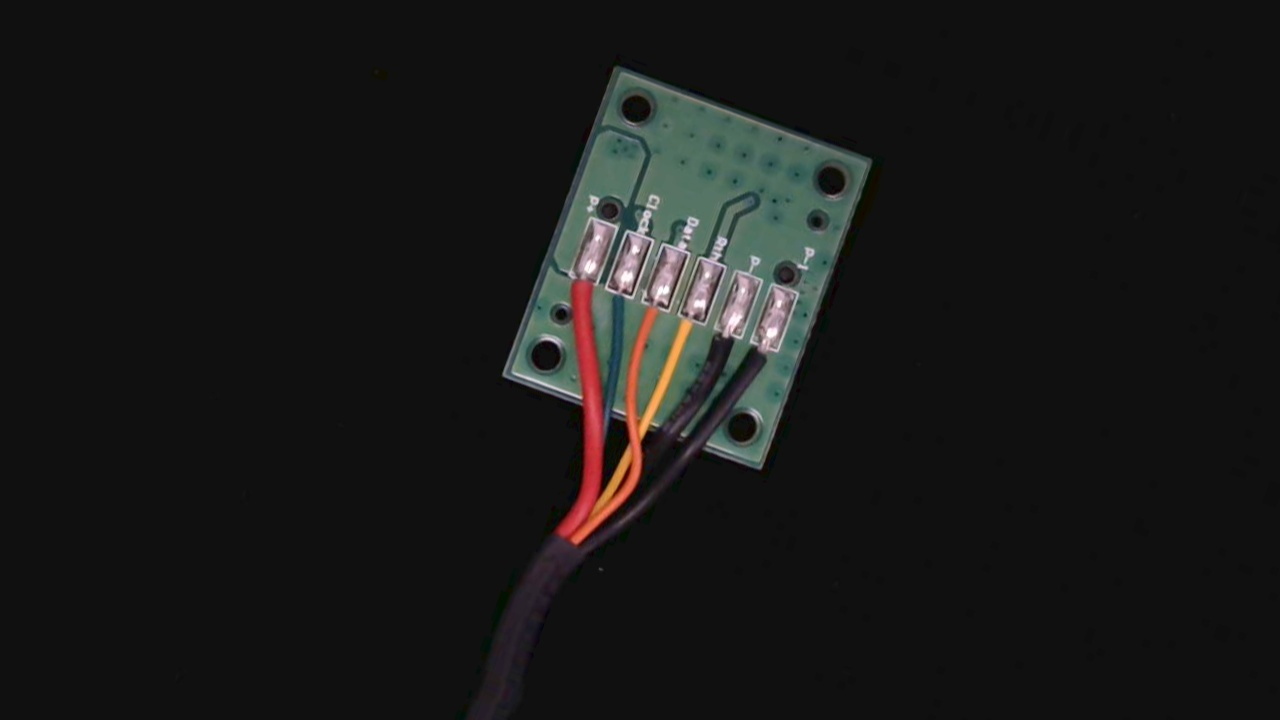Black: (695, 310, 746, 387)
Black1: (730, 327, 784, 401)
Green: (589, 274, 636, 340)
Orange: (623, 282, 677, 360)
Red: (555, 262, 604, 327)
Yellow: (658, 297, 711, 371)
